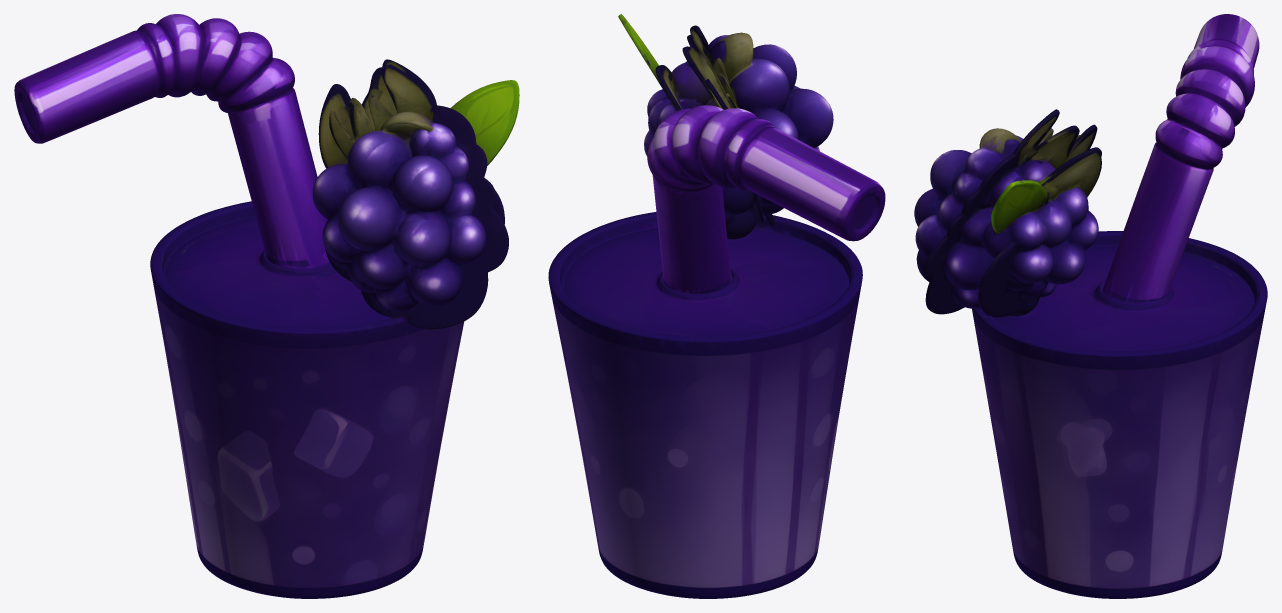
File: Web_Smoothie_Blackberry.fbx
The picture shows the model from 3 angles, left to right: view 1: azimuth 30°, elevation 25°; view 2: azimuth 150°, elevation 25°; view 3: azimuth 270°, elevation 25°; orthographic projection. The views are drawn at different scales.
Parts seen in each view (by area): view 1: Mesh_0; view 2: Mesh_0; view 3: Mesh_0.
Part boxes in pixels (x1,y1,x2,y2): Mesh_0: (14,14,519,598); Mesh_0: (548,14,885,598); Mesh_0: (914,14,1267,598).
Size of the model in its own units: 72.45 by 94.31 by 63.55.
Materials: 1 (1 with a texture image).
